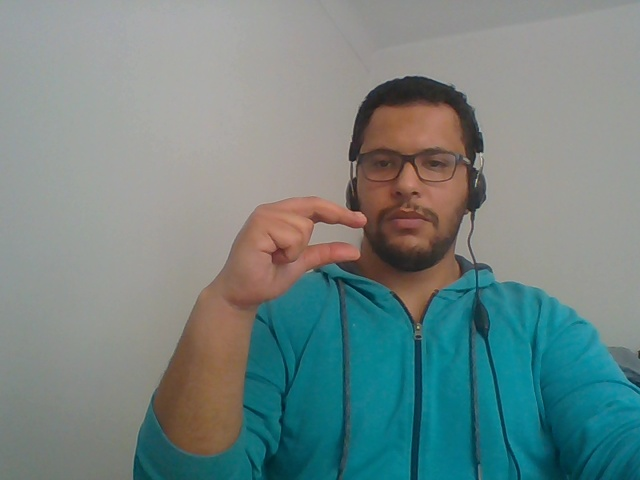no: (193, 183, 374, 308)
